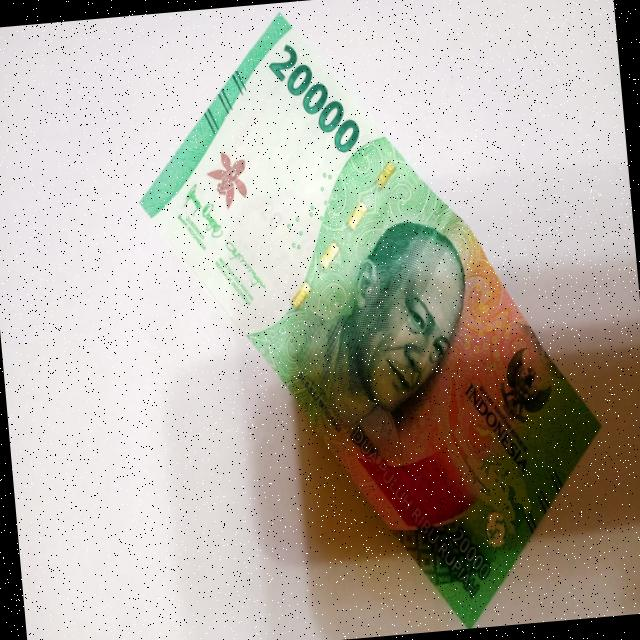20K: (119, 0, 625, 640)
